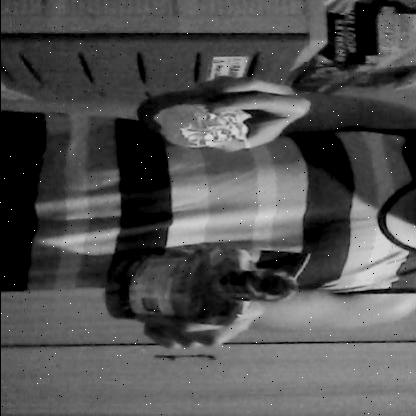Plastic Bottle: (86, 242, 309, 332)
